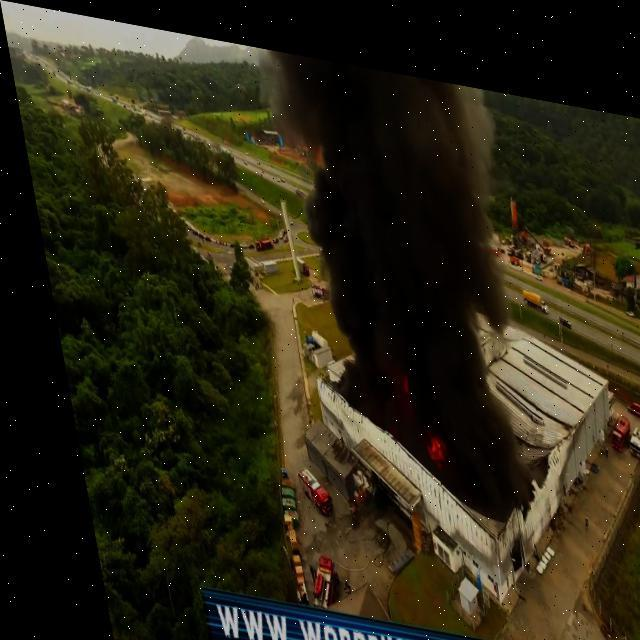Fire: (408, 413, 438, 457)
